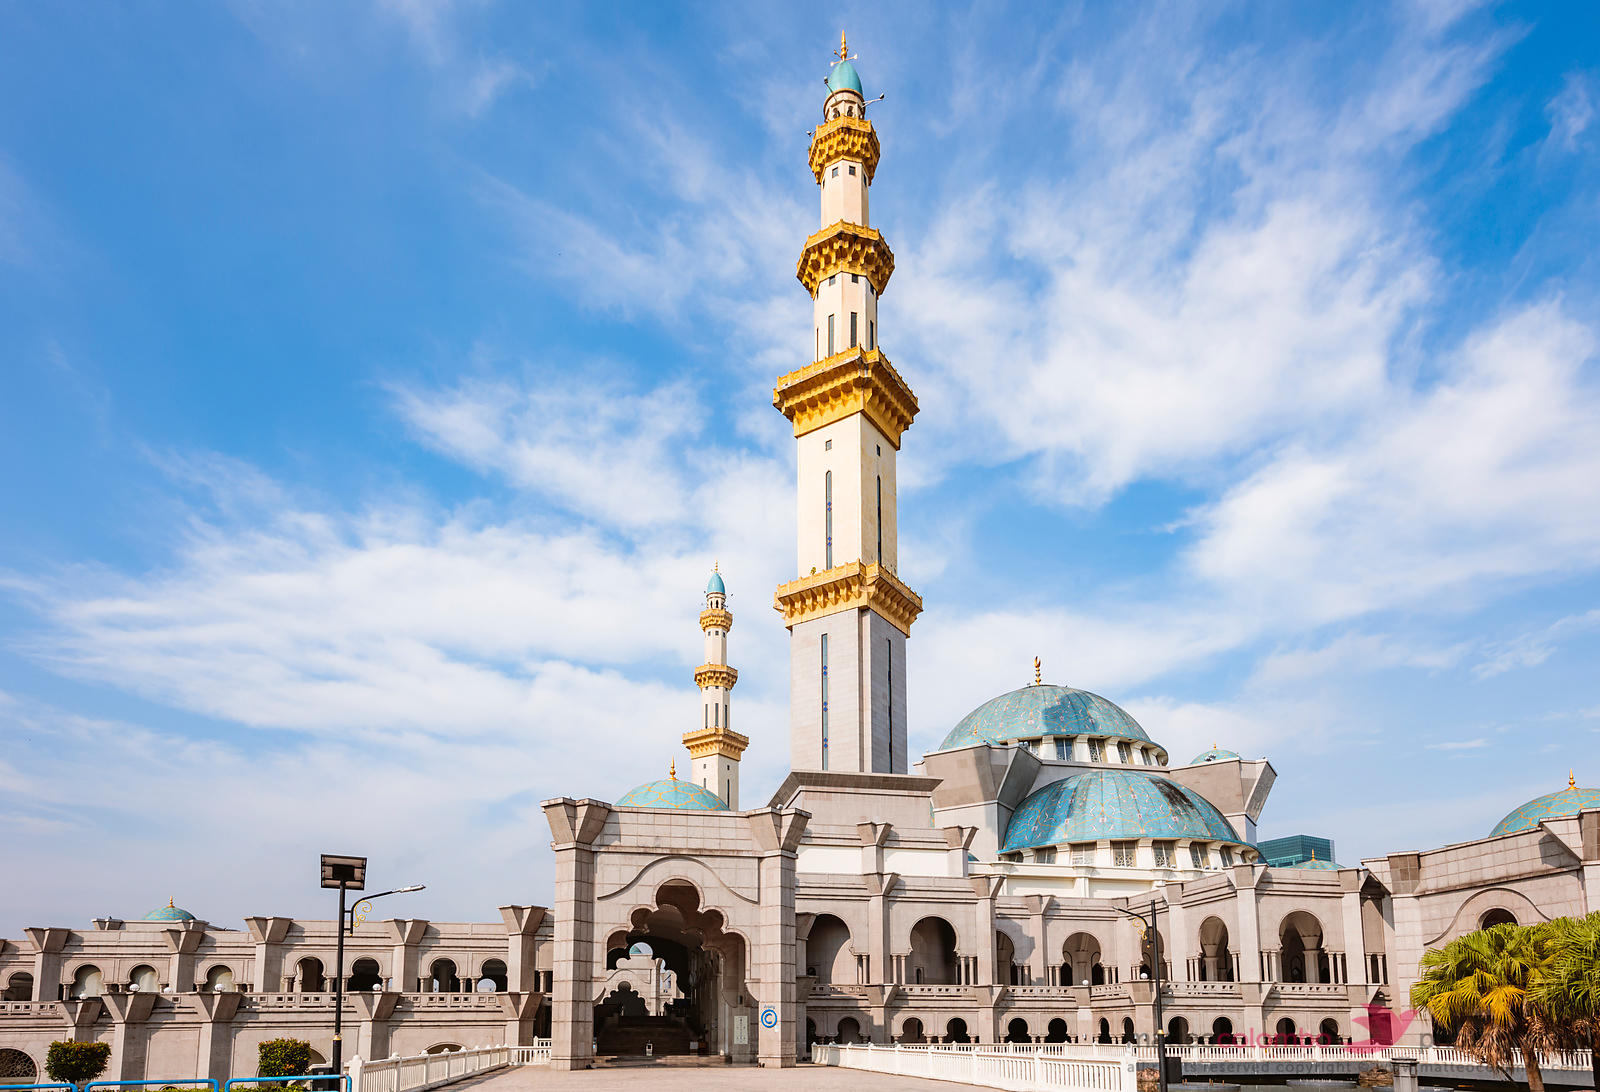Mosque: (691, 36, 1314, 1045)
